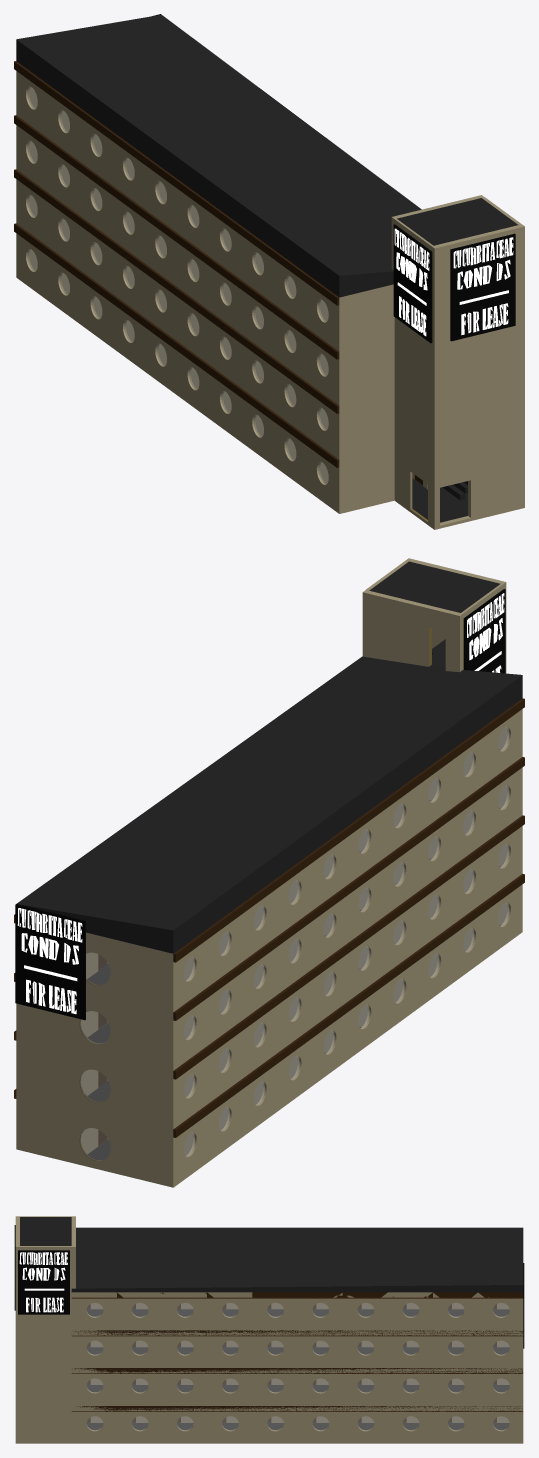
File: Gourd Apartments.glb
3 renders of one model, top to bottom at view 1: azimuth 30°, elevation 25°; view 2: azimuth 150°, elevation 25°; view 3: azimuth 270°, elevation 25°, orthographic. The views are drawn at different scales.
Visible parts, largest first — view 1: Walls, Roof, Signs, Corridor Floors; view 2: Walls, Roof, Signs, Corridor Floors; view 3: Walls, Roof, Signs, Doors.
Boxes of the visible parts, bbox=[...] form: Walls: bbox=[14, 61, 524, 529]; Roof: bbox=[16, 14, 421, 297]; Signs: bbox=[152, 14, 515, 343]; Corridor Floors: bbox=[412, 478, 467, 522]; Walls: bbox=[14, 558, 524, 1187]; Roof: bbox=[16, 656, 522, 953]; Signs: bbox=[15, 589, 505, 1020]; Corridor Floors: bbox=[87, 964, 110, 1160]; Walls: bbox=[15, 1216, 523, 1443]; Roof: bbox=[71, 1227, 523, 1292]; Signs: bbox=[14, 1225, 524, 1348]; Doors: bbox=[87, 1304, 496, 1422].
Size of what is drawn, in the model's own units: 8.83 by 15.85 by 37.34.
